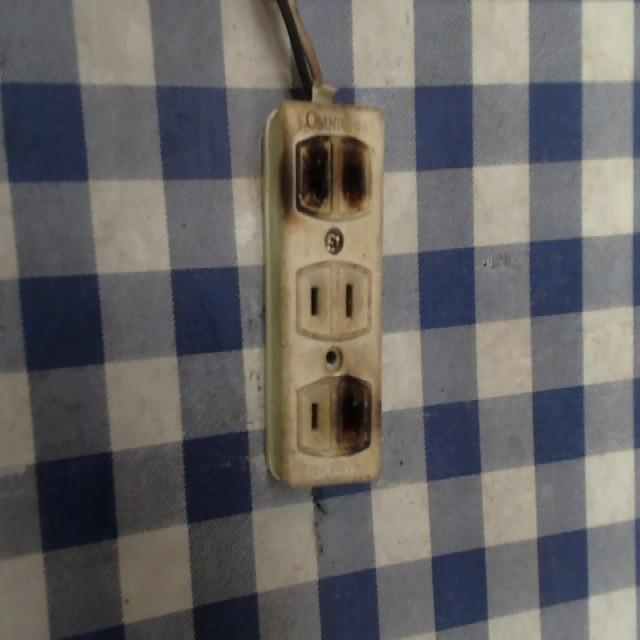-: (273, 124, 380, 227), (324, 365, 384, 468)
